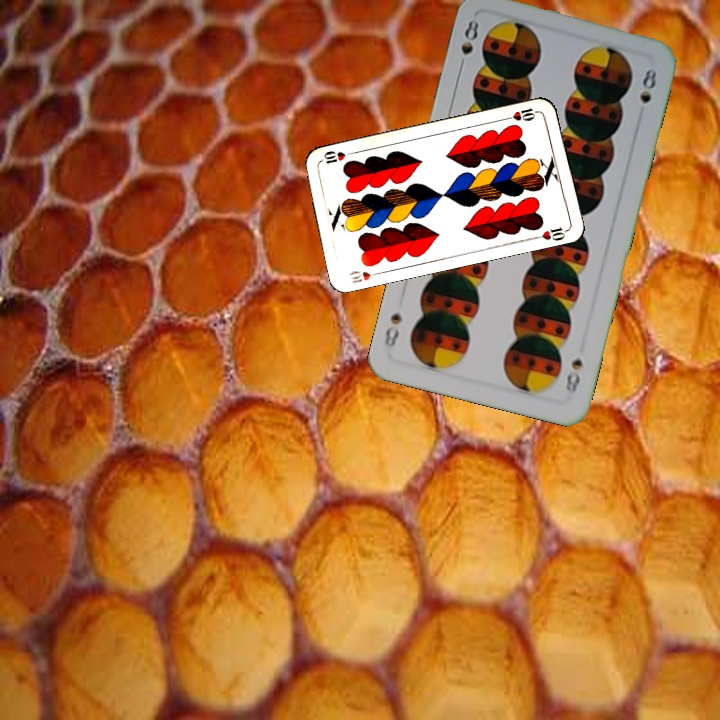H10: (502, 104, 542, 124), (345, 267, 385, 286)
S8: (455, 14, 482, 73), (561, 355, 585, 397)
